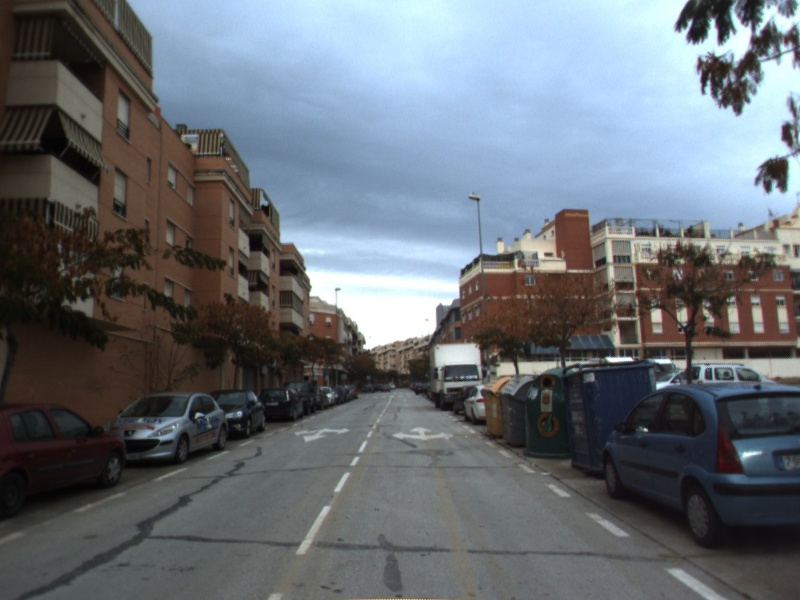STRAIGHT_LEFT_RIGHT: (389, 424, 456, 442)
